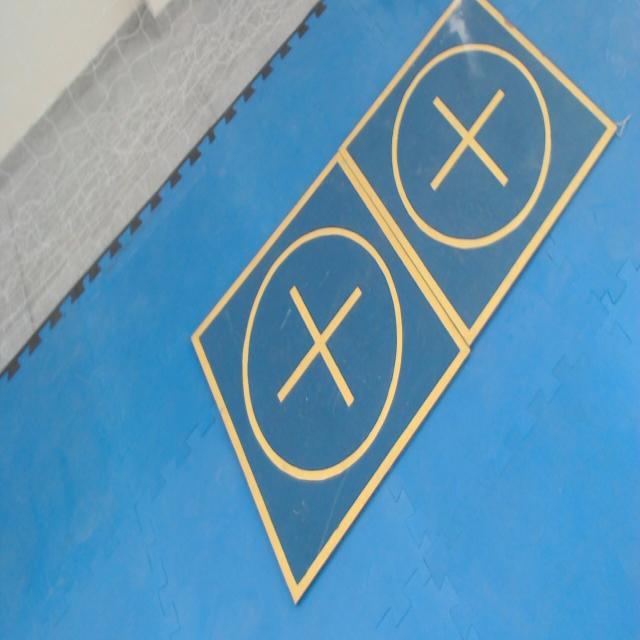base_pouso: (189, 152, 473, 607), (336, 0, 619, 349)
